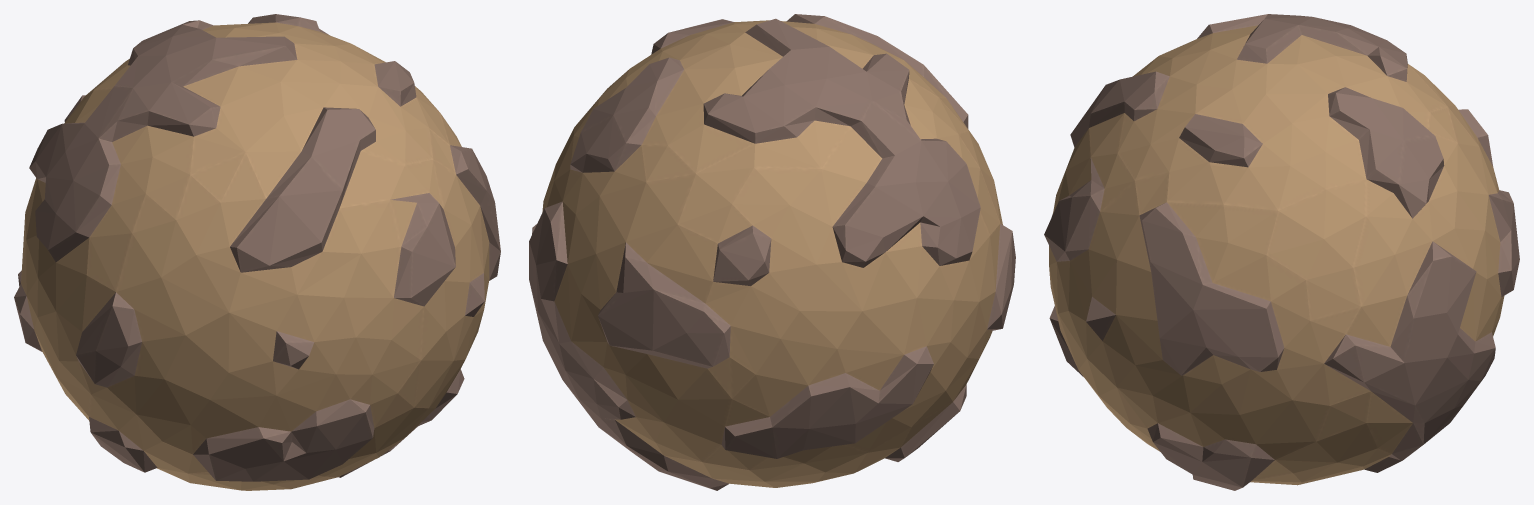
Rendered from Mercury.FBX.
3 views of the same model, side by side, from view 1: azimuth 30°, elevation 25°; view 2: azimuth 150°, elevation 25°; view 3: azimuth 270°, elevation 25° (orthographic).
Parts seen in each view (by area): view 1: Mercury; view 2: Mercury; view 3: Mercury.
Part boxes in pixels (x1,y1,x2,y2): Mercury: (14,14,500,490); Mercury: (529,14,1015,490); Mercury: (1044,14,1519,490).
Size of the model in its own units: 0.3582 by 0.3545 by 0.3601.
